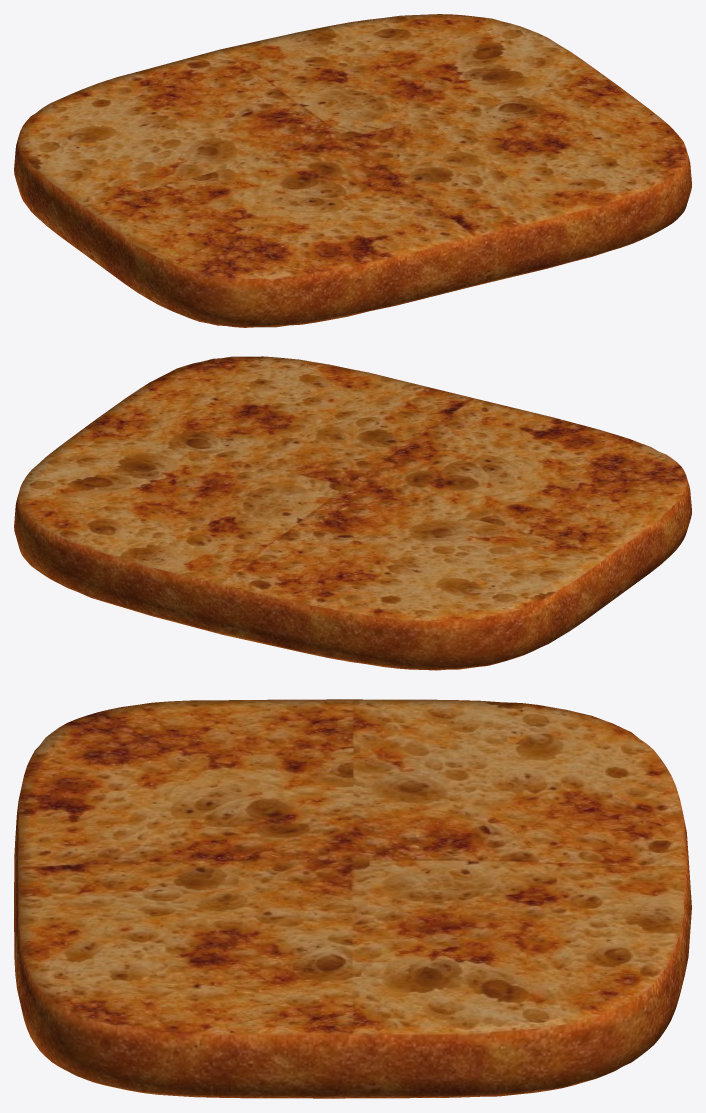
File: savory-rye.glb
3 renders of one model, top to bottom at view 1: azimuth 30°, elevation 25°; view 2: azimuth 150°, elevation 25°; view 3: azimuth 270°, elevation 25°, orthographic. The views are drawn at different scales.
Parts seen in each view (by area): view 1: savory-rye; view 2: savory-rye; view 3: savory-rye.
Part boxes in pixels (box(x1,y1,x2,y2)): savory-rye: box(14, 14, 691, 327); savory-rye: box(14, 356, 691, 670); savory-rye: box(14, 699, 691, 1098).
Size of the model in its own units: 2.4 by 0.2606 by 2.02.
1 material, 1 textured.
